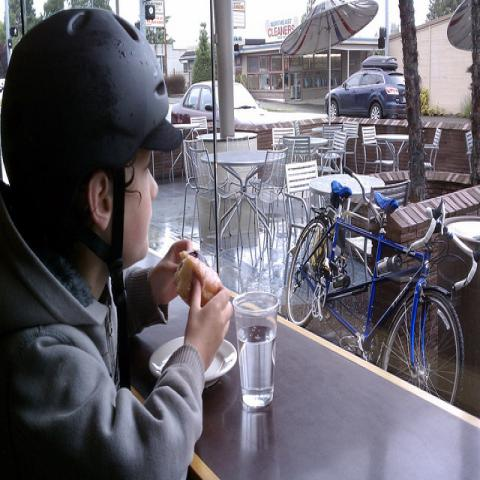car: (324, 57, 407, 120), (170, 82, 267, 123)
